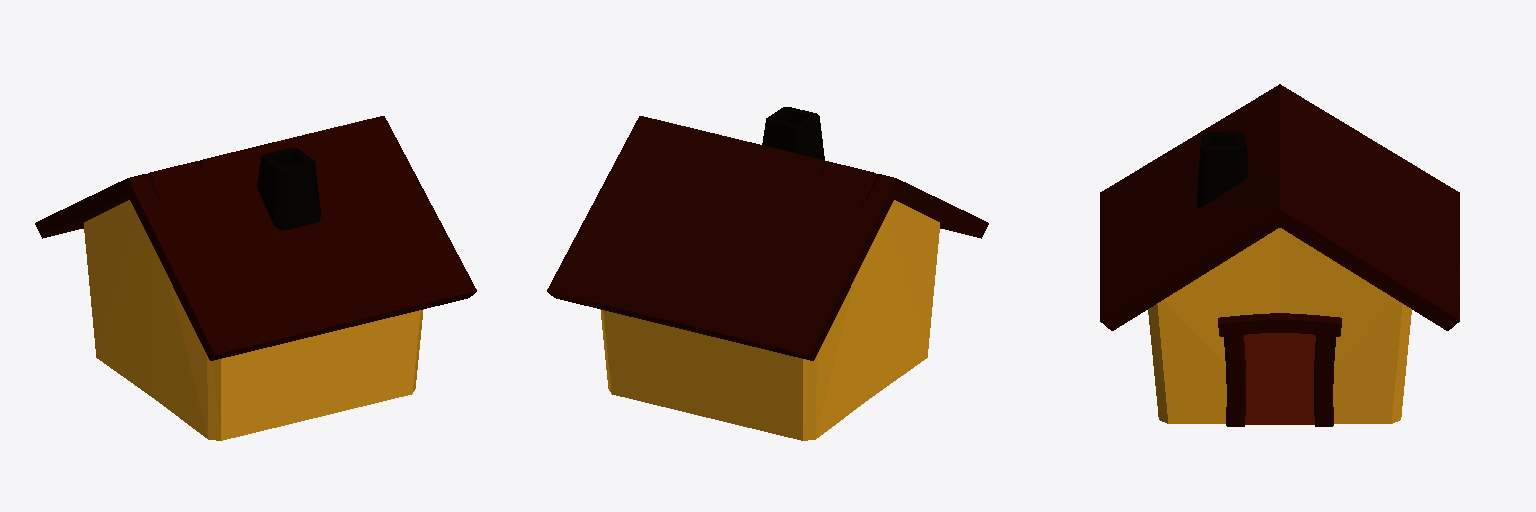
The model's file is House_chimney.obj.
The picture shows the model from 3 angles: view 1: azimuth 30°, elevation 25°; view 2: azimuth 150°, elevation 25°; view 3: azimuth 270°, elevation 25°; orthographic projection.
Parts seen in each view (by area): view 1: casa_Cube.001, Cube; view 2: casa_Cube.001, Cube; view 3: casa_Cube.001, Cube.
Boxes of the visible parts, <box> form: casa_Cube.001: <box>35,116,476,440</box>; Cube: <box>257,147,320,230</box>; casa_Cube.001: <box>547,116,988,440</box>; Cube: <box>762,107,824,160</box>; casa_Cube.001: <box>1100,84,1459,426</box>; Cube: <box>1197,132,1247,207</box>.
Bounding box in the file's own units: 2.57 × 2.2 × 3.06.